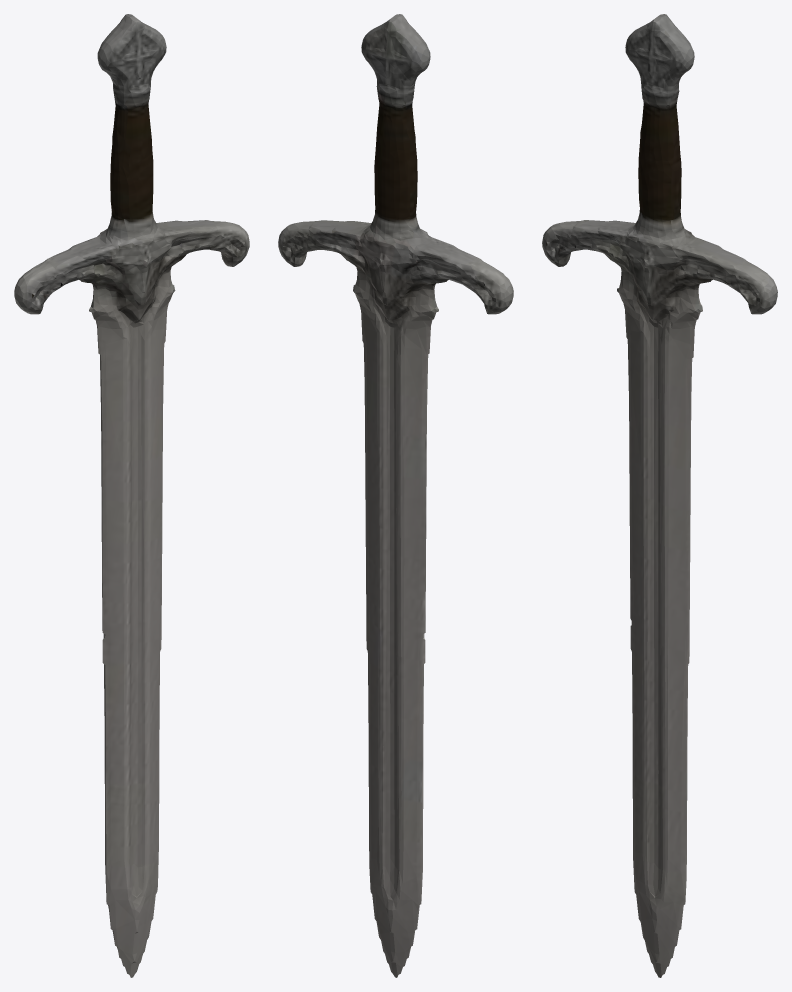
File: sword.glb
3 renders of one model, left to right at view 1: azimuth 30°, elevation 25°; view 2: azimuth 150°, elevation 25°; view 3: azimuth 330°, elevation 25°, orthographic.
Visible parts, largest first — view 1: sword; view 2: sword; view 3: sword.
Boxes of the visible parts, <box> form: sword: <box>14,14,249,977</box>; sword: <box>278,14,513,977</box>; sword: <box>542,14,777,977</box>.
Size of the model in its own units: 0.3453 by 1.37 by 0.0769.
Materials: 1 (1 with a texture image).
